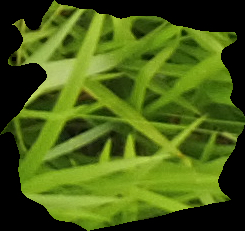grass: (1, 1, 243, 230)
